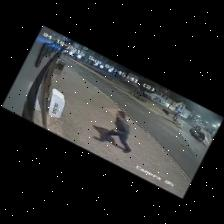person: (101, 111, 131, 153)
